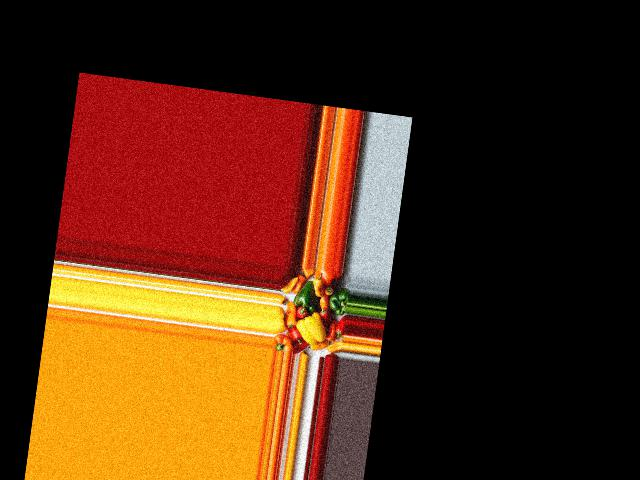bell_pepper: (332, 316, 347, 339)
